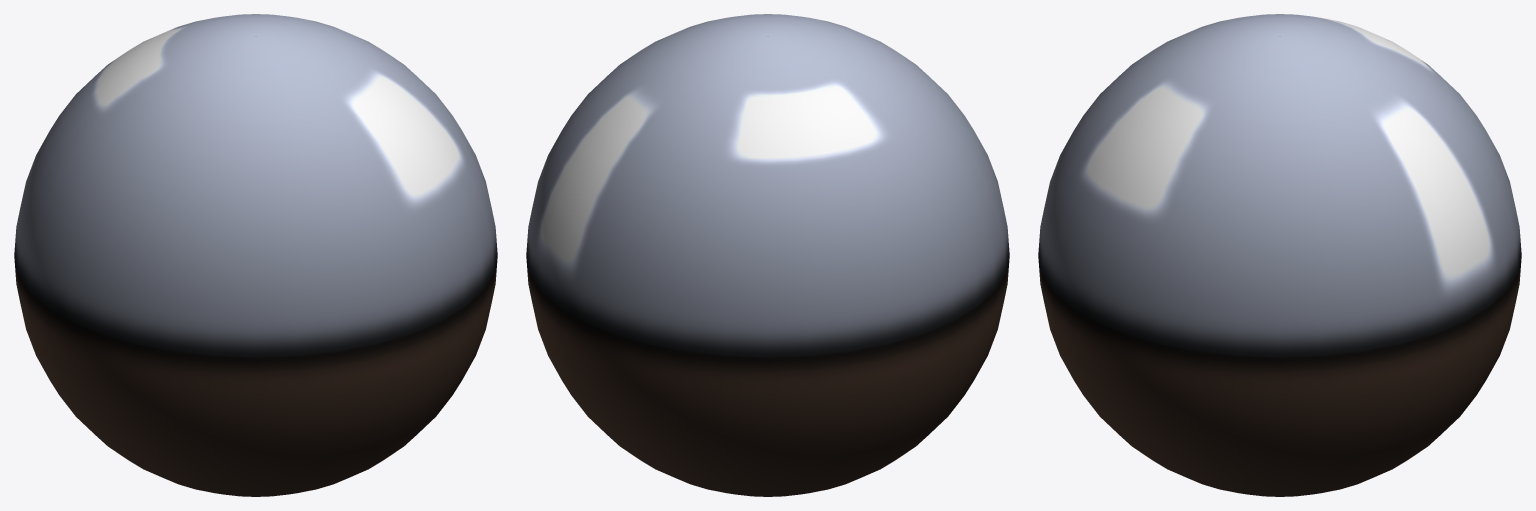
Rendered from ball.glb.
3 renders of one model, left to right at view 1: azimuth 30°, elevation 25°; view 2: azimuth 150°, elevation 25°; view 3: azimuth 270°, elevation 25°, orthographic.
Visible parts, largest first — view 1: ball; view 2: ball; view 3: ball.
Boxes of the visible parts, <box> form: ball: <box>14,14,497,496</box>; ball: <box>526,14,1009,496</box>; ball: <box>1038,14,1521,496</box>.
Size of the model in its own units: 0.024 by 0.024 by 0.024.
Materials: 1 (1 with a texture image).
